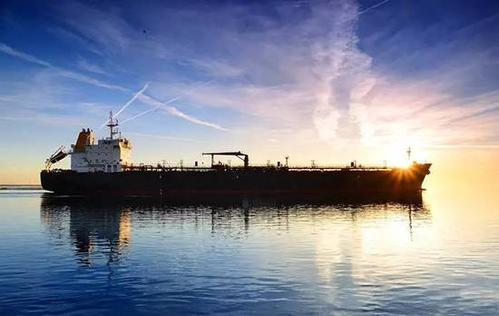Cargoship: (33, 95, 437, 194)
